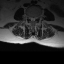CCS_normal: (32, 14, 33, 24)
LFS_normal: (36, 14, 38, 20)
LLS_normal: (33, 14, 36, 23)
RFS_normal: (27, 14, 30, 21)
RLS_normal: (30, 14, 32, 22)
